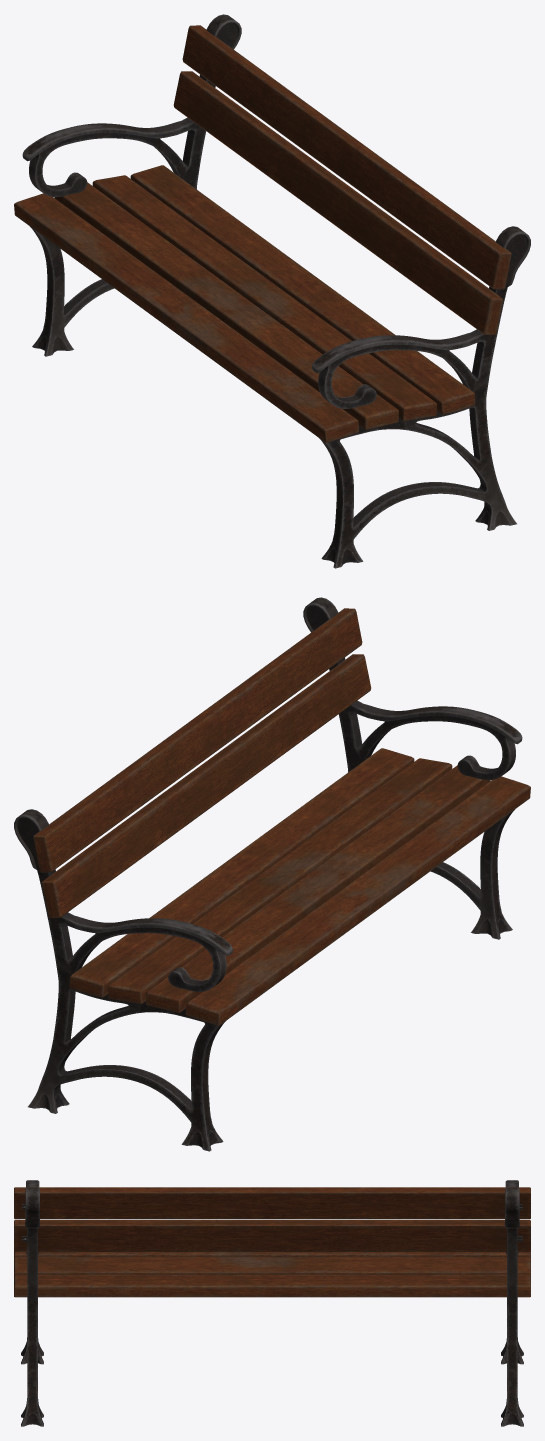
The model's file is panchina4_LOD0.fbx.
3 views of the same model, one above another, from view 1: azimuth 30°, elevation 25°; view 2: azimuth 150°, elevation 25°; view 3: azimuth 270°, elevation 25° (orthographic). The views are drawn at different scales.
Parts seen in each view (by area): view 1: panchina4_001__1_; view 2: panchina4_001__1_; view 3: panchina4_001__1_.
Boxes of the visible parts, left/top/right/bottom form: panchina4_001__1_: left=14, top=14, right=530, bottom=568; panchina4_001__1_: left=14, top=597, right=530, bottom=1151; panchina4_001__1_: left=14, top=1180, right=530, bottom=1426.
Size of the model in its own units: 378 by 488 by 957.
